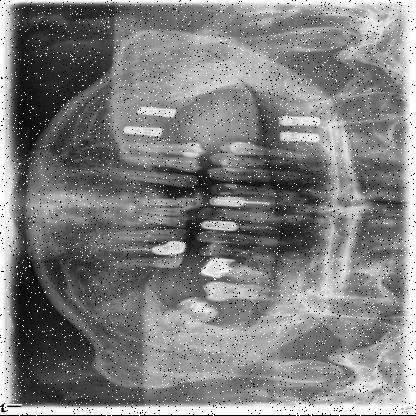ITI: (272, 116, 326, 131), (116, 127, 171, 139), (130, 107, 177, 120), (273, 132, 318, 145)
